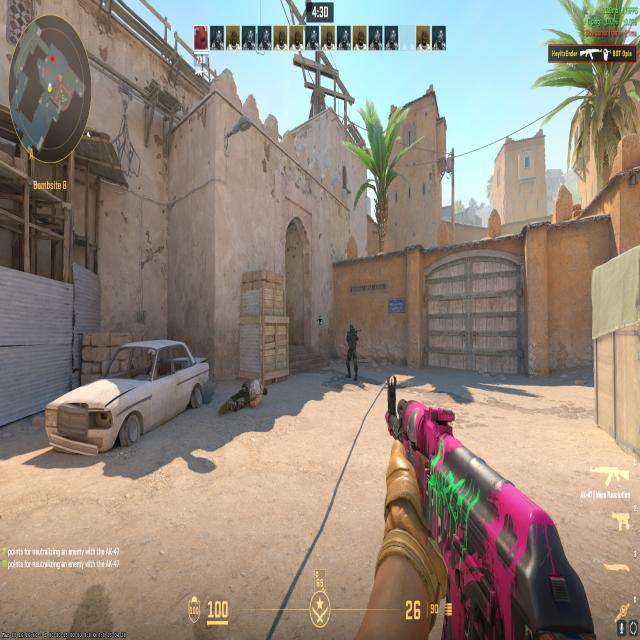ct: (343, 318, 360, 383)
